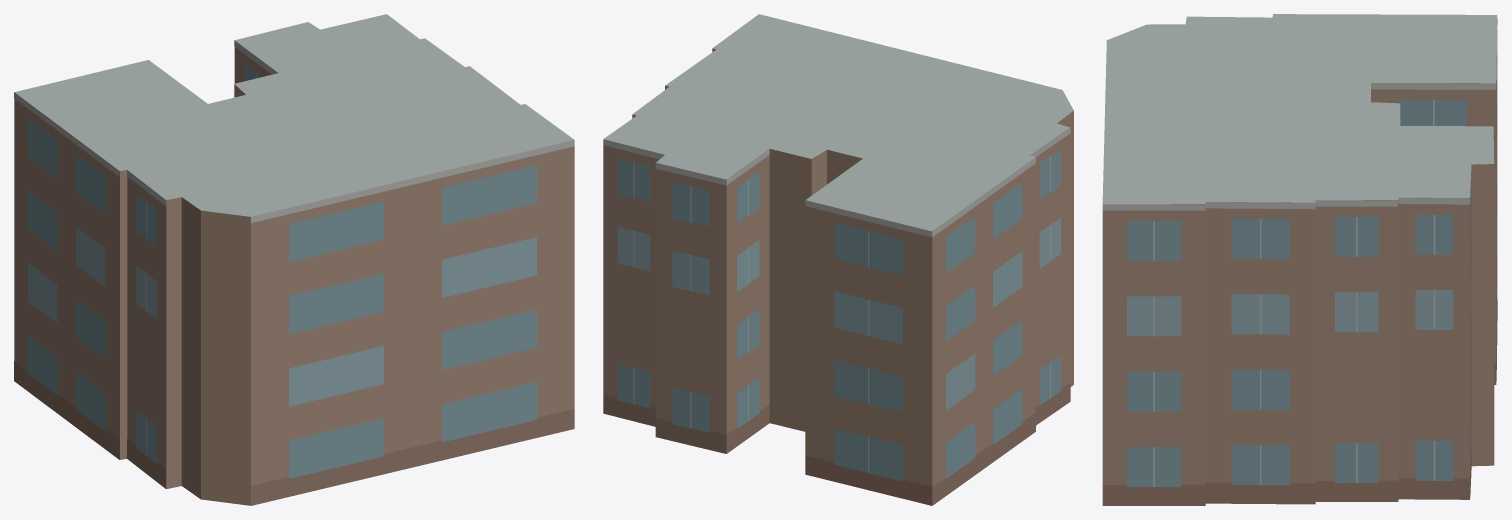
The model's file is survey-upis-32605025.glb.
3 renders of one model, left to right at view 1: azimuth 30°, elevation 25°; view 2: azimuth 150°, elevation 25°; view 3: azimuth 270°, elevation 25°, orthographic. The views are drawn at different scales.
Visible parts, largest first — view 1: survey-upis-32605025.tmp; view 2: survey-upis-32605025.tmp; view 3: survey-upis-32605025.tmp.
Part boxes in pixels (x1,y1,x2,y2): survey-upis-32605025.tmp: (14, 14, 574, 505); survey-upis-32605025.tmp: (603, 14, 1073, 505); survey-upis-32605025.tmp: (1102, 14, 1497, 505).
Size of the model in its own units: 15.21 by 11.24 by 13.35.
